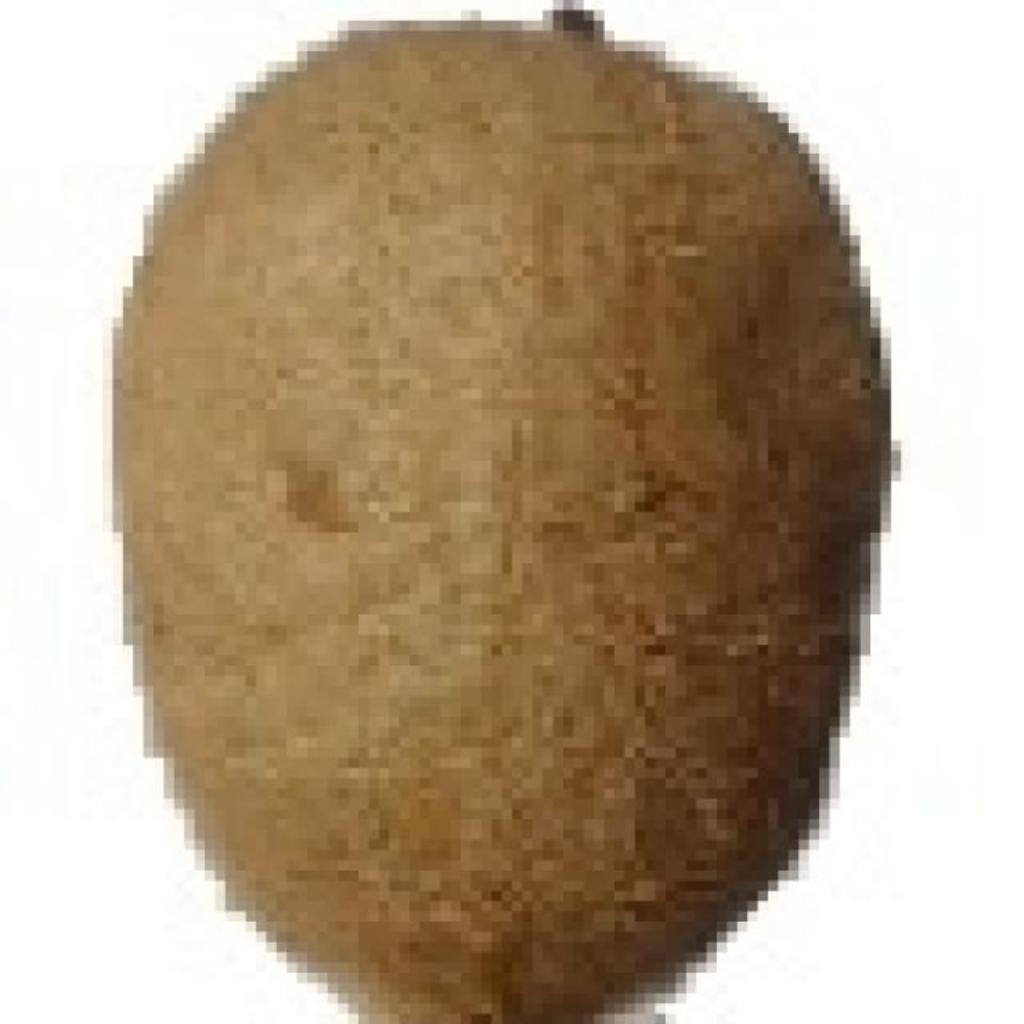kiwi: (113, 10, 870, 1004)
